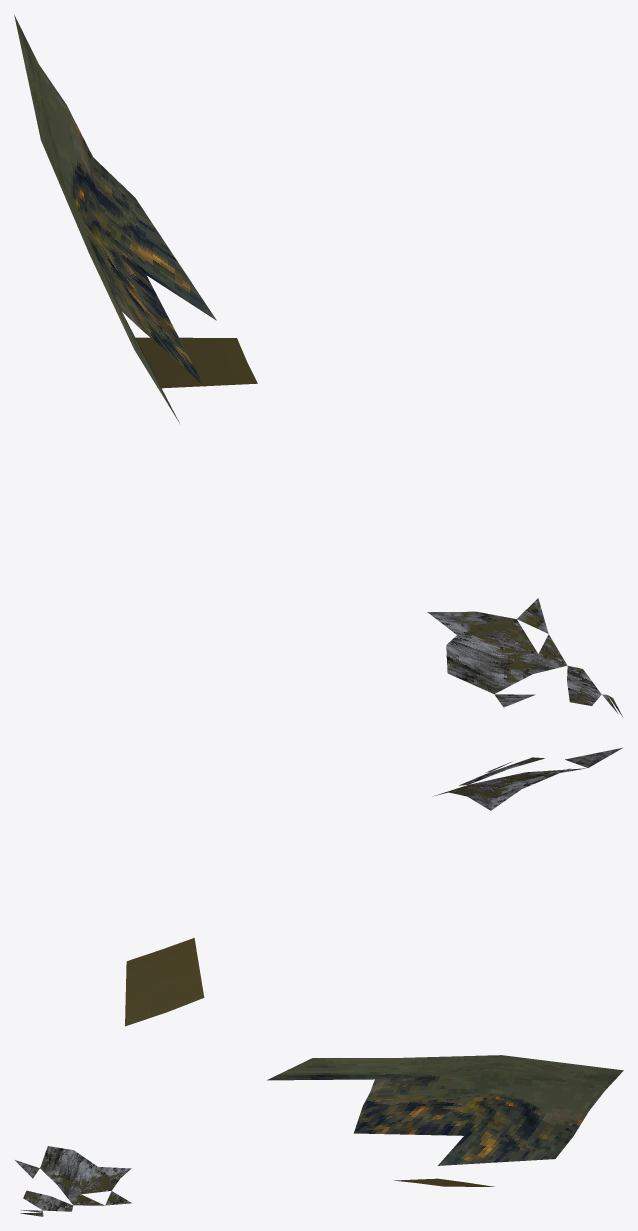
The model's file is world_camden_10_-13.gltf.
3 renders of one model, top to bottom at view 1: azimuth 30°, elevation 25°; view 2: azimuth 150°, elevation 25°; view 3: azimuth 270°, elevation 25°, orthographic. The views are drawn at different scales.
Size of the model in its own units: 52.31 by 57.02 by 226.
4 materials, 4 textured.
